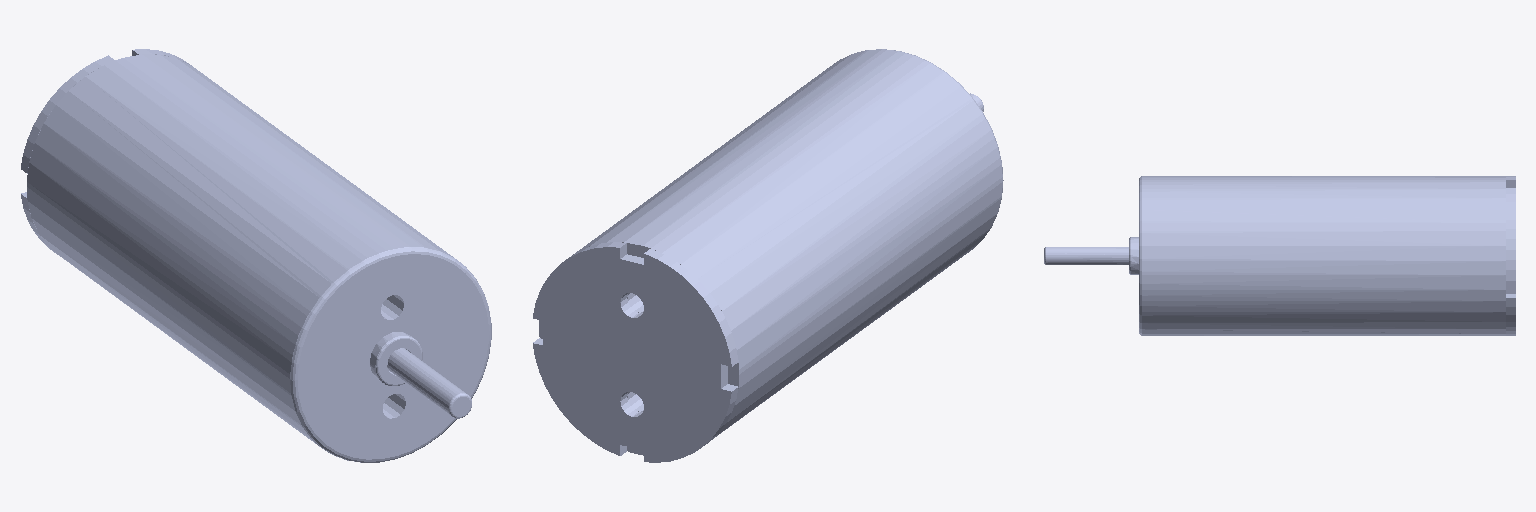
The robot description file, URDF, robot "Coreless_Motor.SLDPRT":
<?xml version="1.0" encoding="utf-8"?>
<!-- This URDF was automatically created by SolidWorks to URDF Exporter! Originally created by [author] ([email redacted]) 
     Commit Version: 1.5.1-0-g916b5db  Build Version: 1.5.7152.31018
     For more information, please see http://wiki.ros.org/sw_urdf_exporter -->
<robot
  name="Coreless_Motor.SLDPRT">
  <link
    name="Coreless_Motor.URDF">
    <inertial>
      <origin
        xyz="0.19521 -0.00967769999999999 0.21384"
        rpy="0 0 0" />
      <mass
        value="0.001122" />
      <inertia
        ixx="4.2547E-08"
        ixy="-2.1679E-12"
        ixz="-1.0032E-11"
        iyy="1.0159E-08"
        iyz="-1.56069999999801E-12"
        izz="4.2619E-08" />
    </inertial>
    <visual>
      <origin
        xyz="0 0 0"
        rpy="1.5707963267949 0 0" />
      <geometry>
        <mesh
          filename="package://Coreless_Motor.URDF/meshes/Coreless_Motor.URDF.STL" />
      </geometry>
      <material
        name="">
        <color
          rgba="0.79216 0.81961 0.93333 1" />
        <texture
          filename="package://Coreless_Motor.URDF/textures/" />
      </material>
    </visual>
    <collision>
      <origin
        xyz="0 0 0"
        rpy="1.5707963267949 0 0" />
      <geometry>
        <mesh
          filename="package://Coreless_Motor.URDF/meshes/Coreless_Motor.URDF.STL" />
      </geometry>
    </collision>
  </link>
</robot>

--- What the picture shows (computed from the rendered views, not written in the file) ---
3 views of the same robot in one strip: view 1: azimuth 30°, elevation 25°; view 2: azimuth 150°, elevation 25°; view 3: azimuth 270°, elevation 25° (orthographic).
Robot: Coreless_Motor.SLDPRT — 1 links, 0 joints (none); root link Coreless_Motor.URDF; default pose: all joints at 0.
Links seen in each view (by area): view 1: Coreless_Motor.URDF; view 2: Coreless_Motor.URDF; view 3: Coreless_Motor.URDF.
Link boxes in pixels (x1,y1,x2,y2): Coreless_Motor.URDF: (21,49,491,462); Coreless_Motor.URDF: (533,49,1003,462); Coreless_Motor.URDF: (1044,176,1515,335).
Size in the robot's own frame: 0.0085 by 0.025 by 0.0085 metres.
1 mesh visuals loaded from 1 distinct referenced files (1 binary STL).